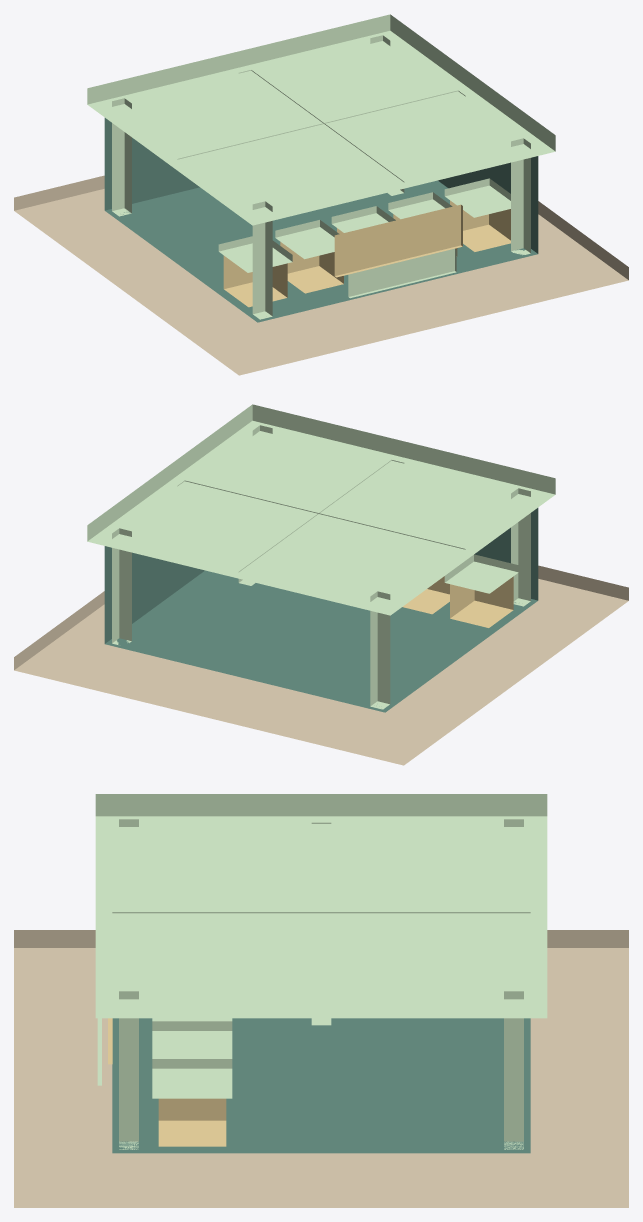
Rendered from apiary.glb.
The picture shows the model from 3 angles, top to bottom: view 1: azimuth 30°, elevation 25°; view 2: azimuth 150°, elevation 25°; view 3: azimuth 270°, elevation 25°; orthographic projection. The views are drawn at different scales.
Visible parts, largest first — view 1: Roof, Foundation, Details, Walls, Frame; view 2: Roof, Foundation, Walls, Frame, Details; view 3: Roof, Foundation, Walls, Details, Frame.
Boxes of the visible parts, <box> form: Roof: <box>87,14,555,225</box>; Foundation: <box>14,175,628,375</box>; Details: <box>218,178,510,307</box>; Walls: <box>104,118,538,322</box>; Frame: <box>112,35,530,319</box>; Roof: <box>87,404,555,615</box>; Foundation: <box>14,565,628,765</box>; Walls: <box>104,508,538,712</box>; Frame: <box>112,425,530,709</box>; Details: <box>403,554,518,627</box>; Roof: <box>95,794,547,1018</box>; Foundation: <box>14,930,628,1207</box>; Walls: <box>112,1018,530,1153</box>; Details: <box>97,1018,232,1146</box>; Frame: <box>112,819,530,1149</box>.
Bounding box in the file's own units: 20 × 6.56 × 20.
